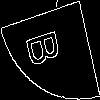B: (25, 25, 68, 70)
